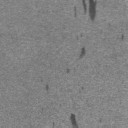red iron: (82, 0, 96, 20), (70, 114, 78, 128), (80, 48, 85, 58), (74, 5, 76, 18), (66, 68, 70, 74), (121, 34, 124, 40), (52, 122, 55, 128), (46, 85, 48, 90)
